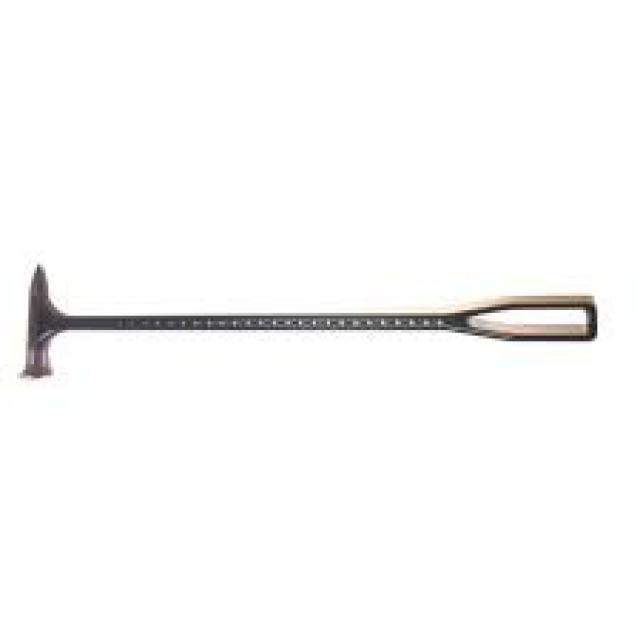hammer: (12, 252, 608, 398)
